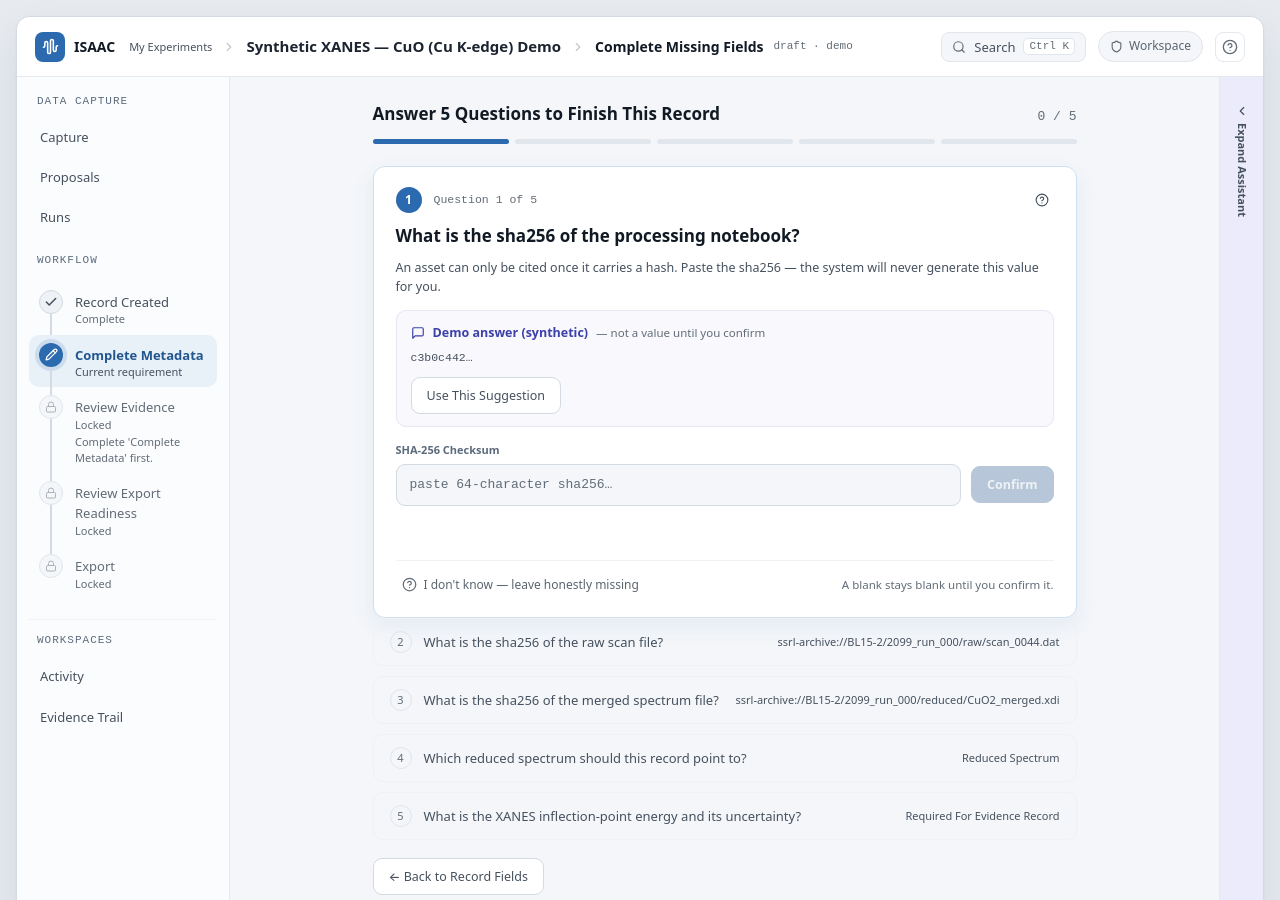
Test: S4 · an answer is shown as confirmed only when the server reported it applied › a dropped answer (200, blocker still open, changed:false) claims nothing, moves no counter, and leaves the question open
Expected: the heading "What is the sha256 of the processing notebook?" is shown, [396,224,800,247]
Expected: the text "0 / 5" is shown, [1038,107,1076,127]
In the field named "Asset Hash": (678, 485) [396,464,961,506], type "not-a-valid-sha256"
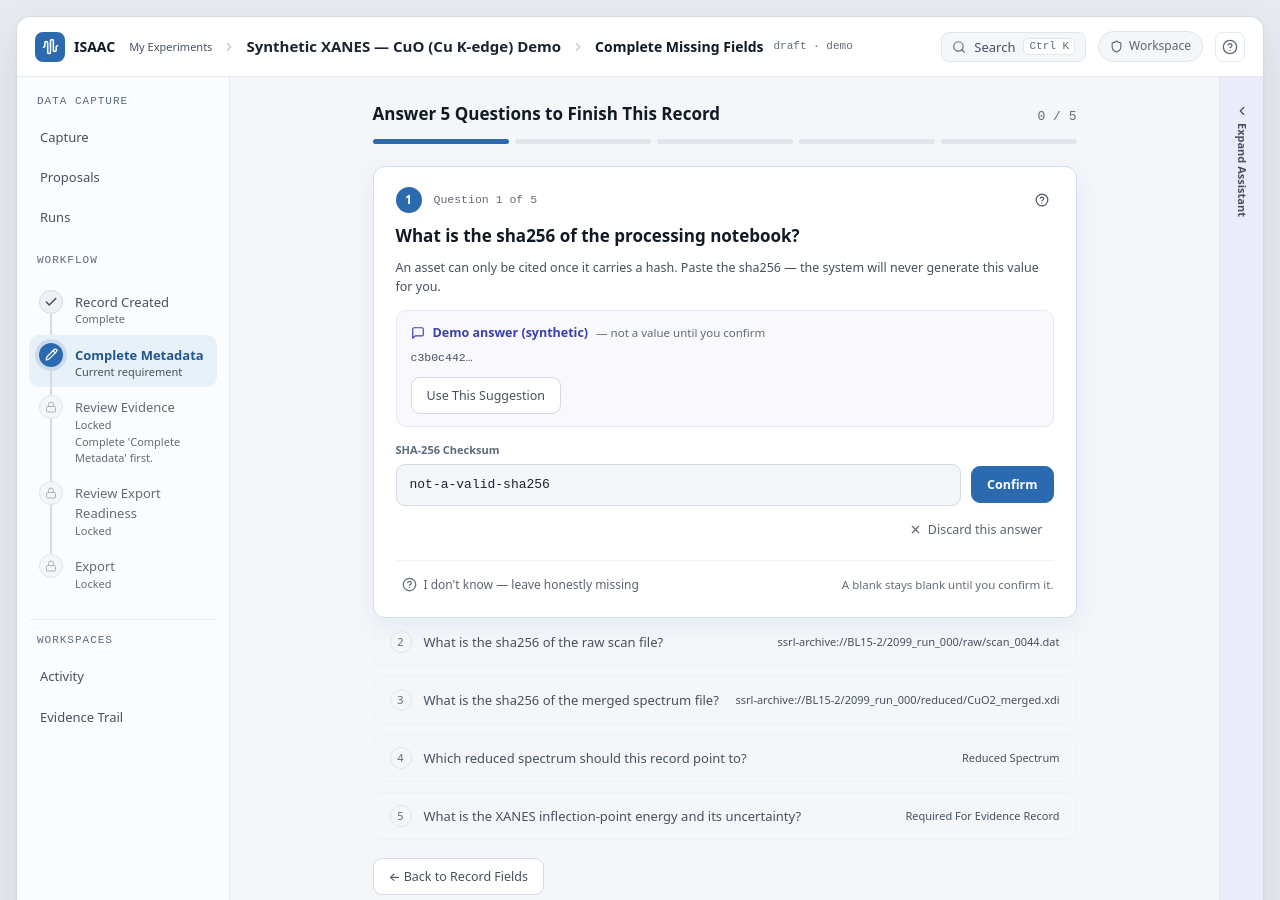
Click the button "Confirm": click(1012, 485) [971,466,1054,503]
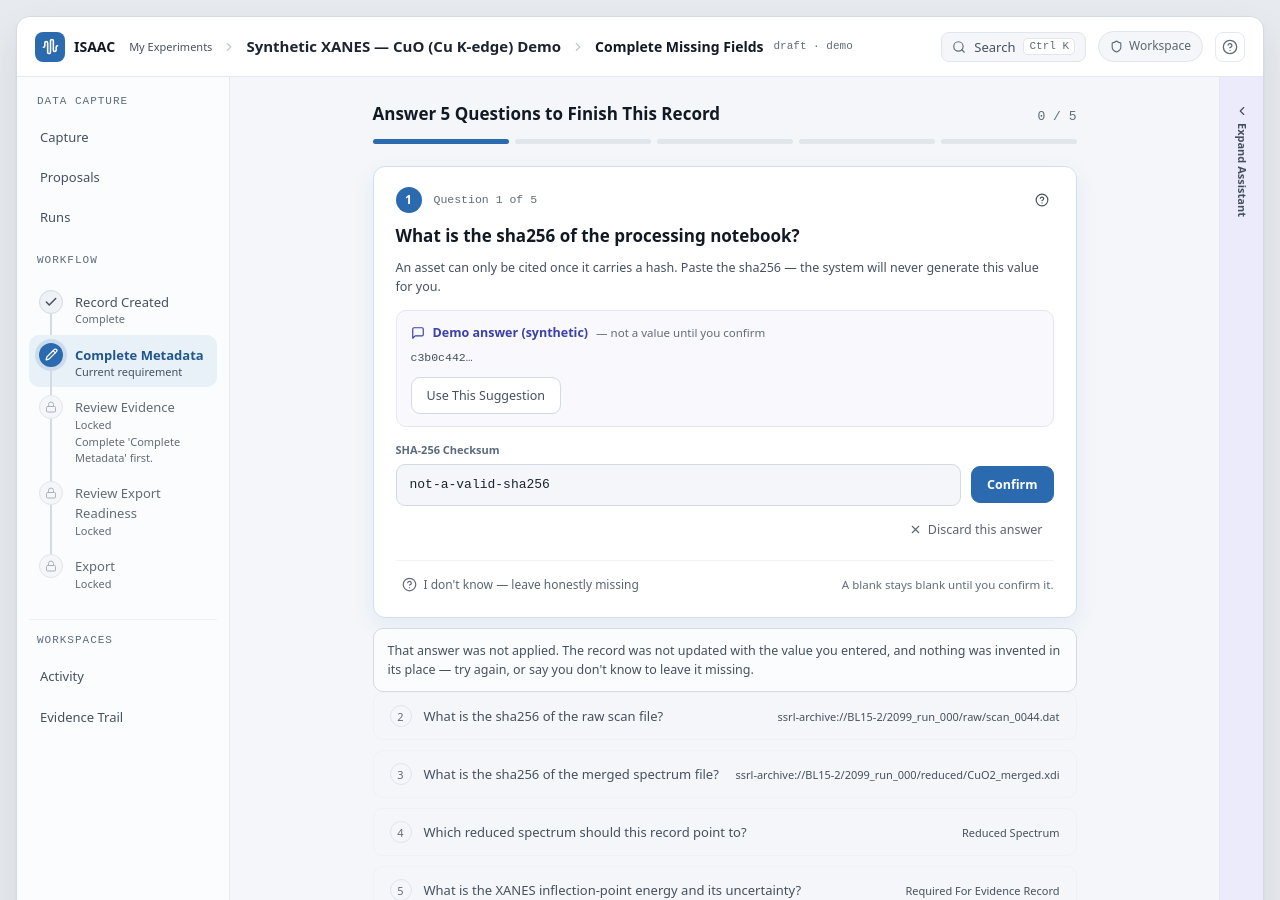
Expected: the text "0 / 5" is shown, [1038,107,1076,127]
Expected: the text "That answer was not applied." is shown, [388,642,1060,678]
